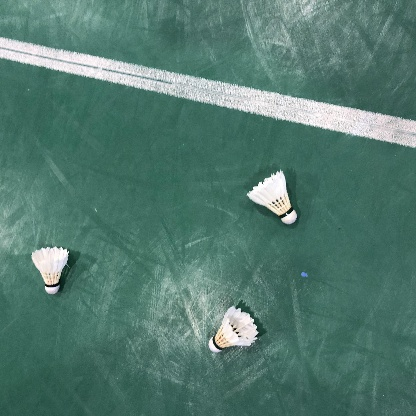ball_single: (247, 170, 297, 225), (209, 306, 258, 352), (31, 246, 69, 294)
